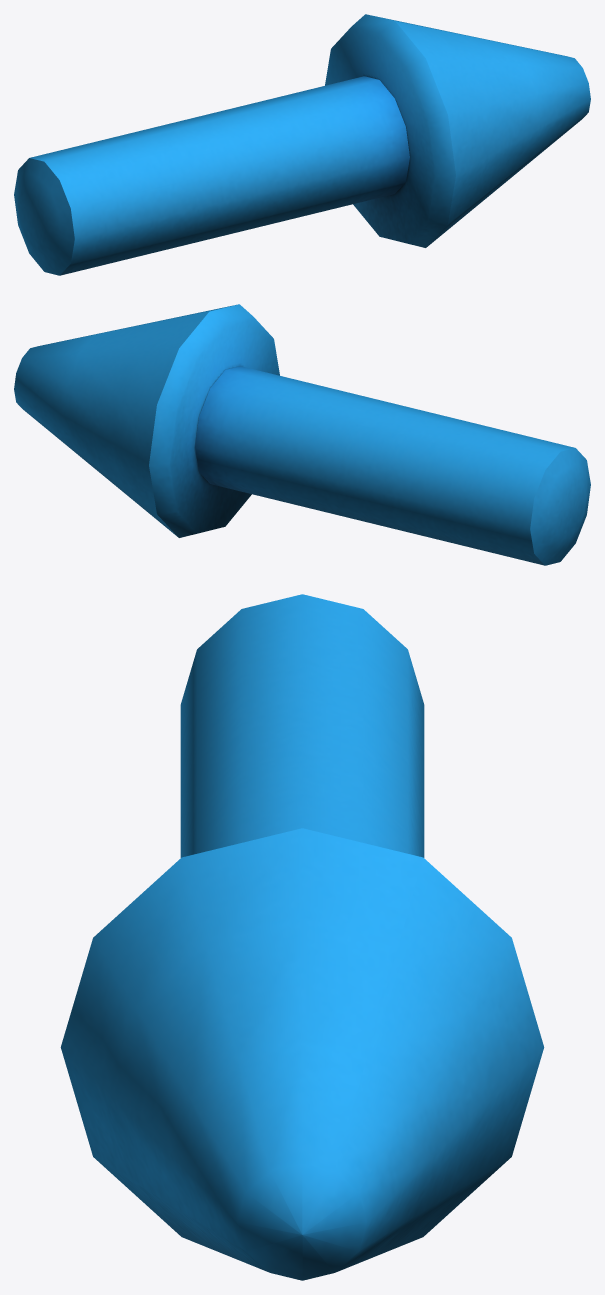
File: 3Darrow.gltf
3 renders of one model, top to bottom at view 1: azimuth 30°, elevation 25°; view 2: azimuth 150°, elevation 25°; view 3: azimuth 270°, elevation 25°, orthographic. The views are drawn at different scales.
Visible parts, largest first — view 1: arrow; view 2: arrow; view 3: arrow.
Boxes of the visible parts, x1=… form: arrow: x1=14, y1=14, x2=590, y2=275; arrow: x1=14, y1=304, x2=590, y2=565; arrow: x1=60, y1=594, x2=544, y2=1280.
Size of the model in its own units: 43.51 by 16.45 by 16.45.
1 material, 1 textured.
